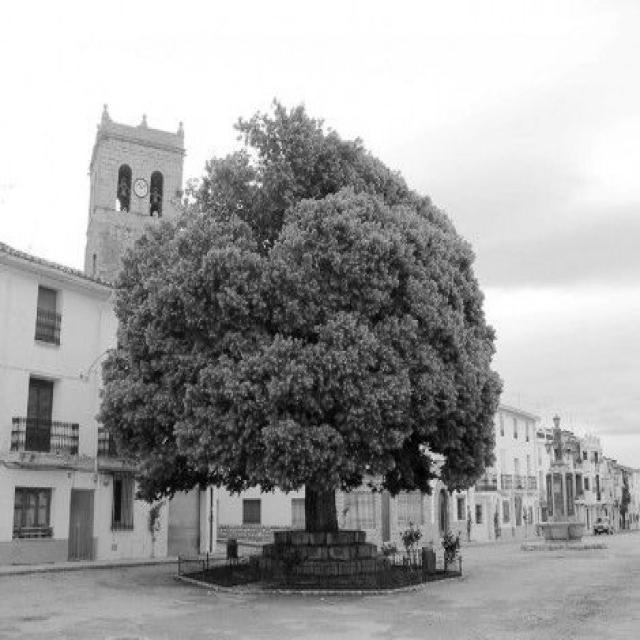olmo: (112, 106, 507, 534)
